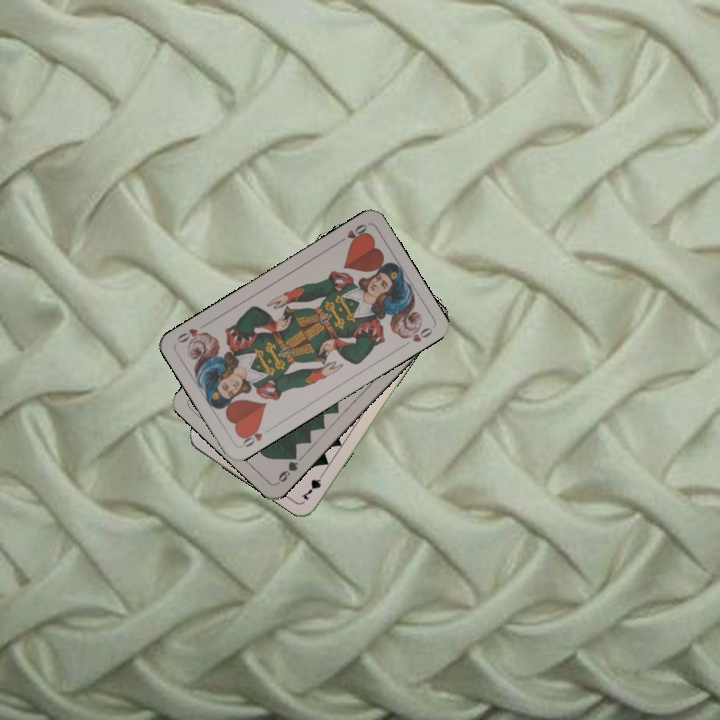G7: (298, 467, 328, 503)
G9: (273, 449, 301, 486)
HO: (333, 220, 370, 247), (237, 422, 265, 450)
